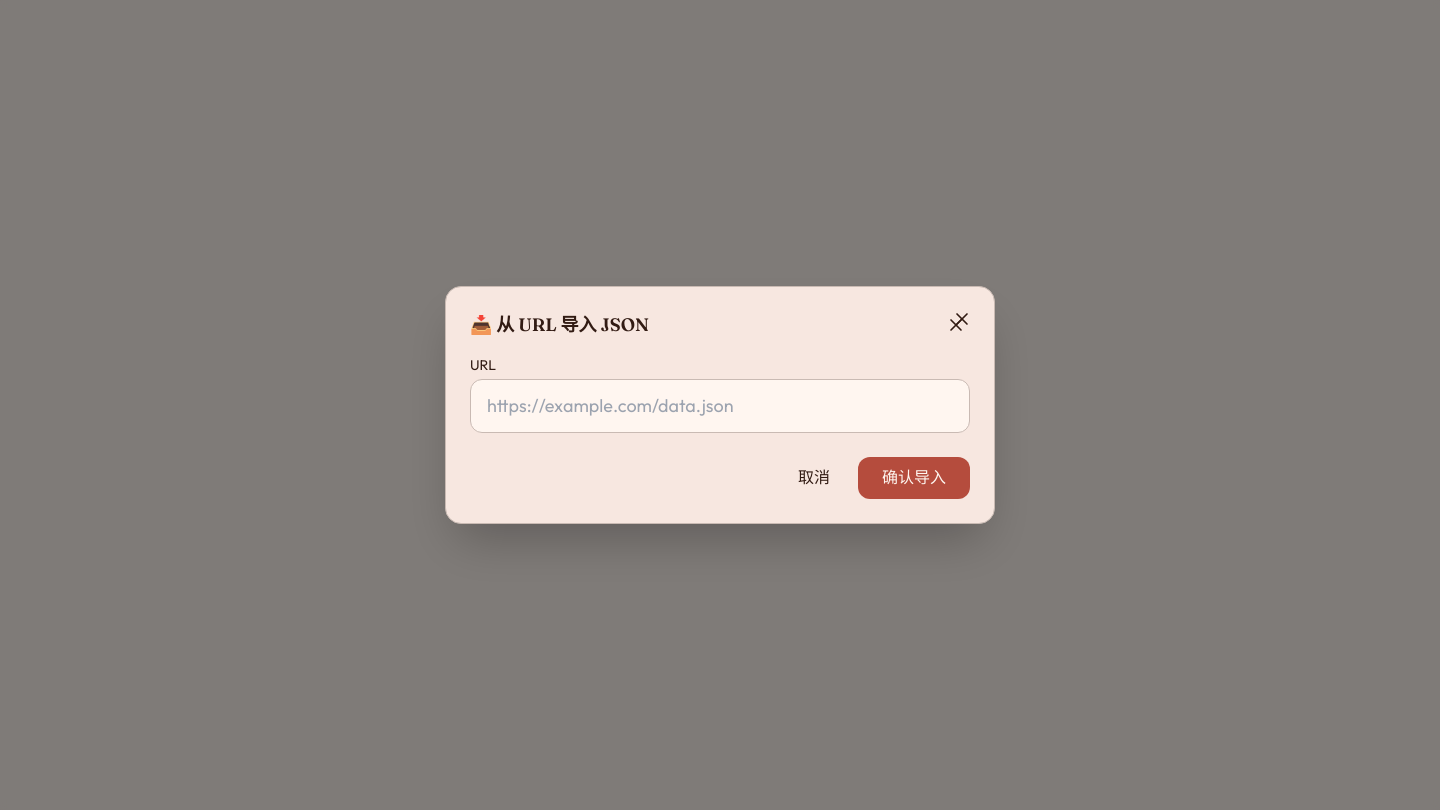
Scenario: UrlImportModal › should show error when URL is empty on submit
Step 1. Click the button "确认导入" → (914, 478), box x1=858 y1=457 x2=970 y2=499
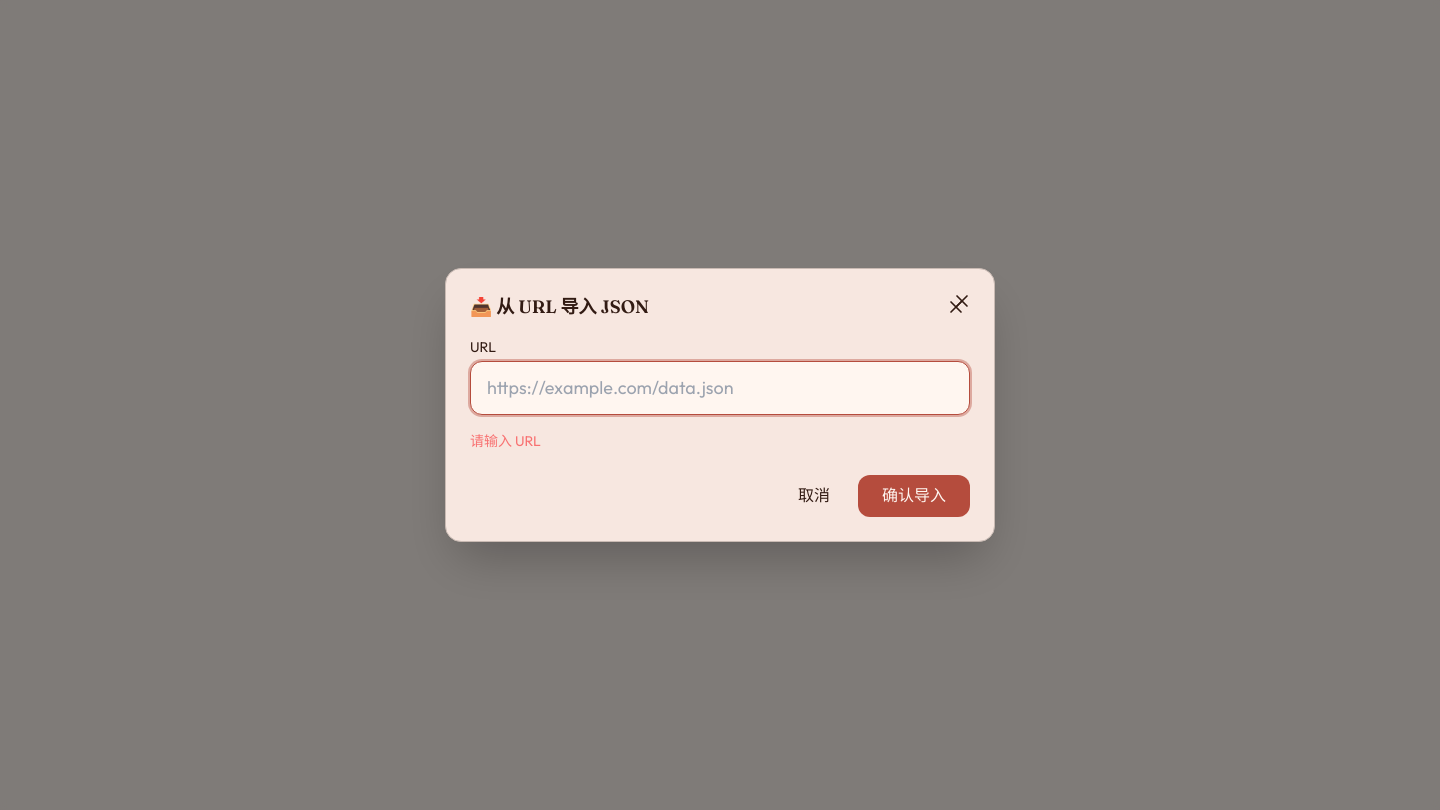
Check: the text "请输入 URL" is shown, box x1=470 y1=432 x2=541 y2=450
